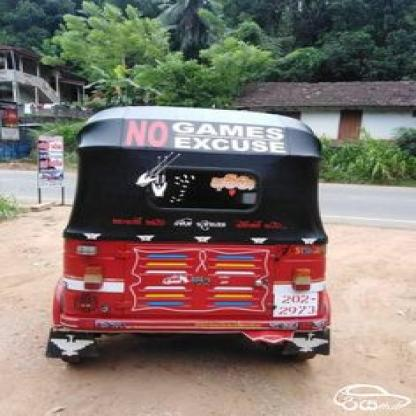number plate: (278, 290, 319, 324)
three wheeler back: (50, 105, 332, 369)
